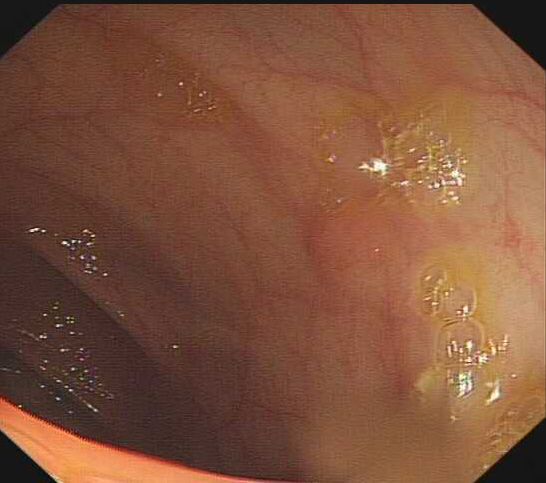others: (304, 204, 404, 302)
